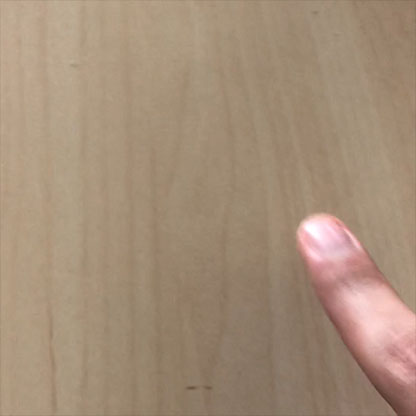fingertip: (272, 209, 379, 270)
